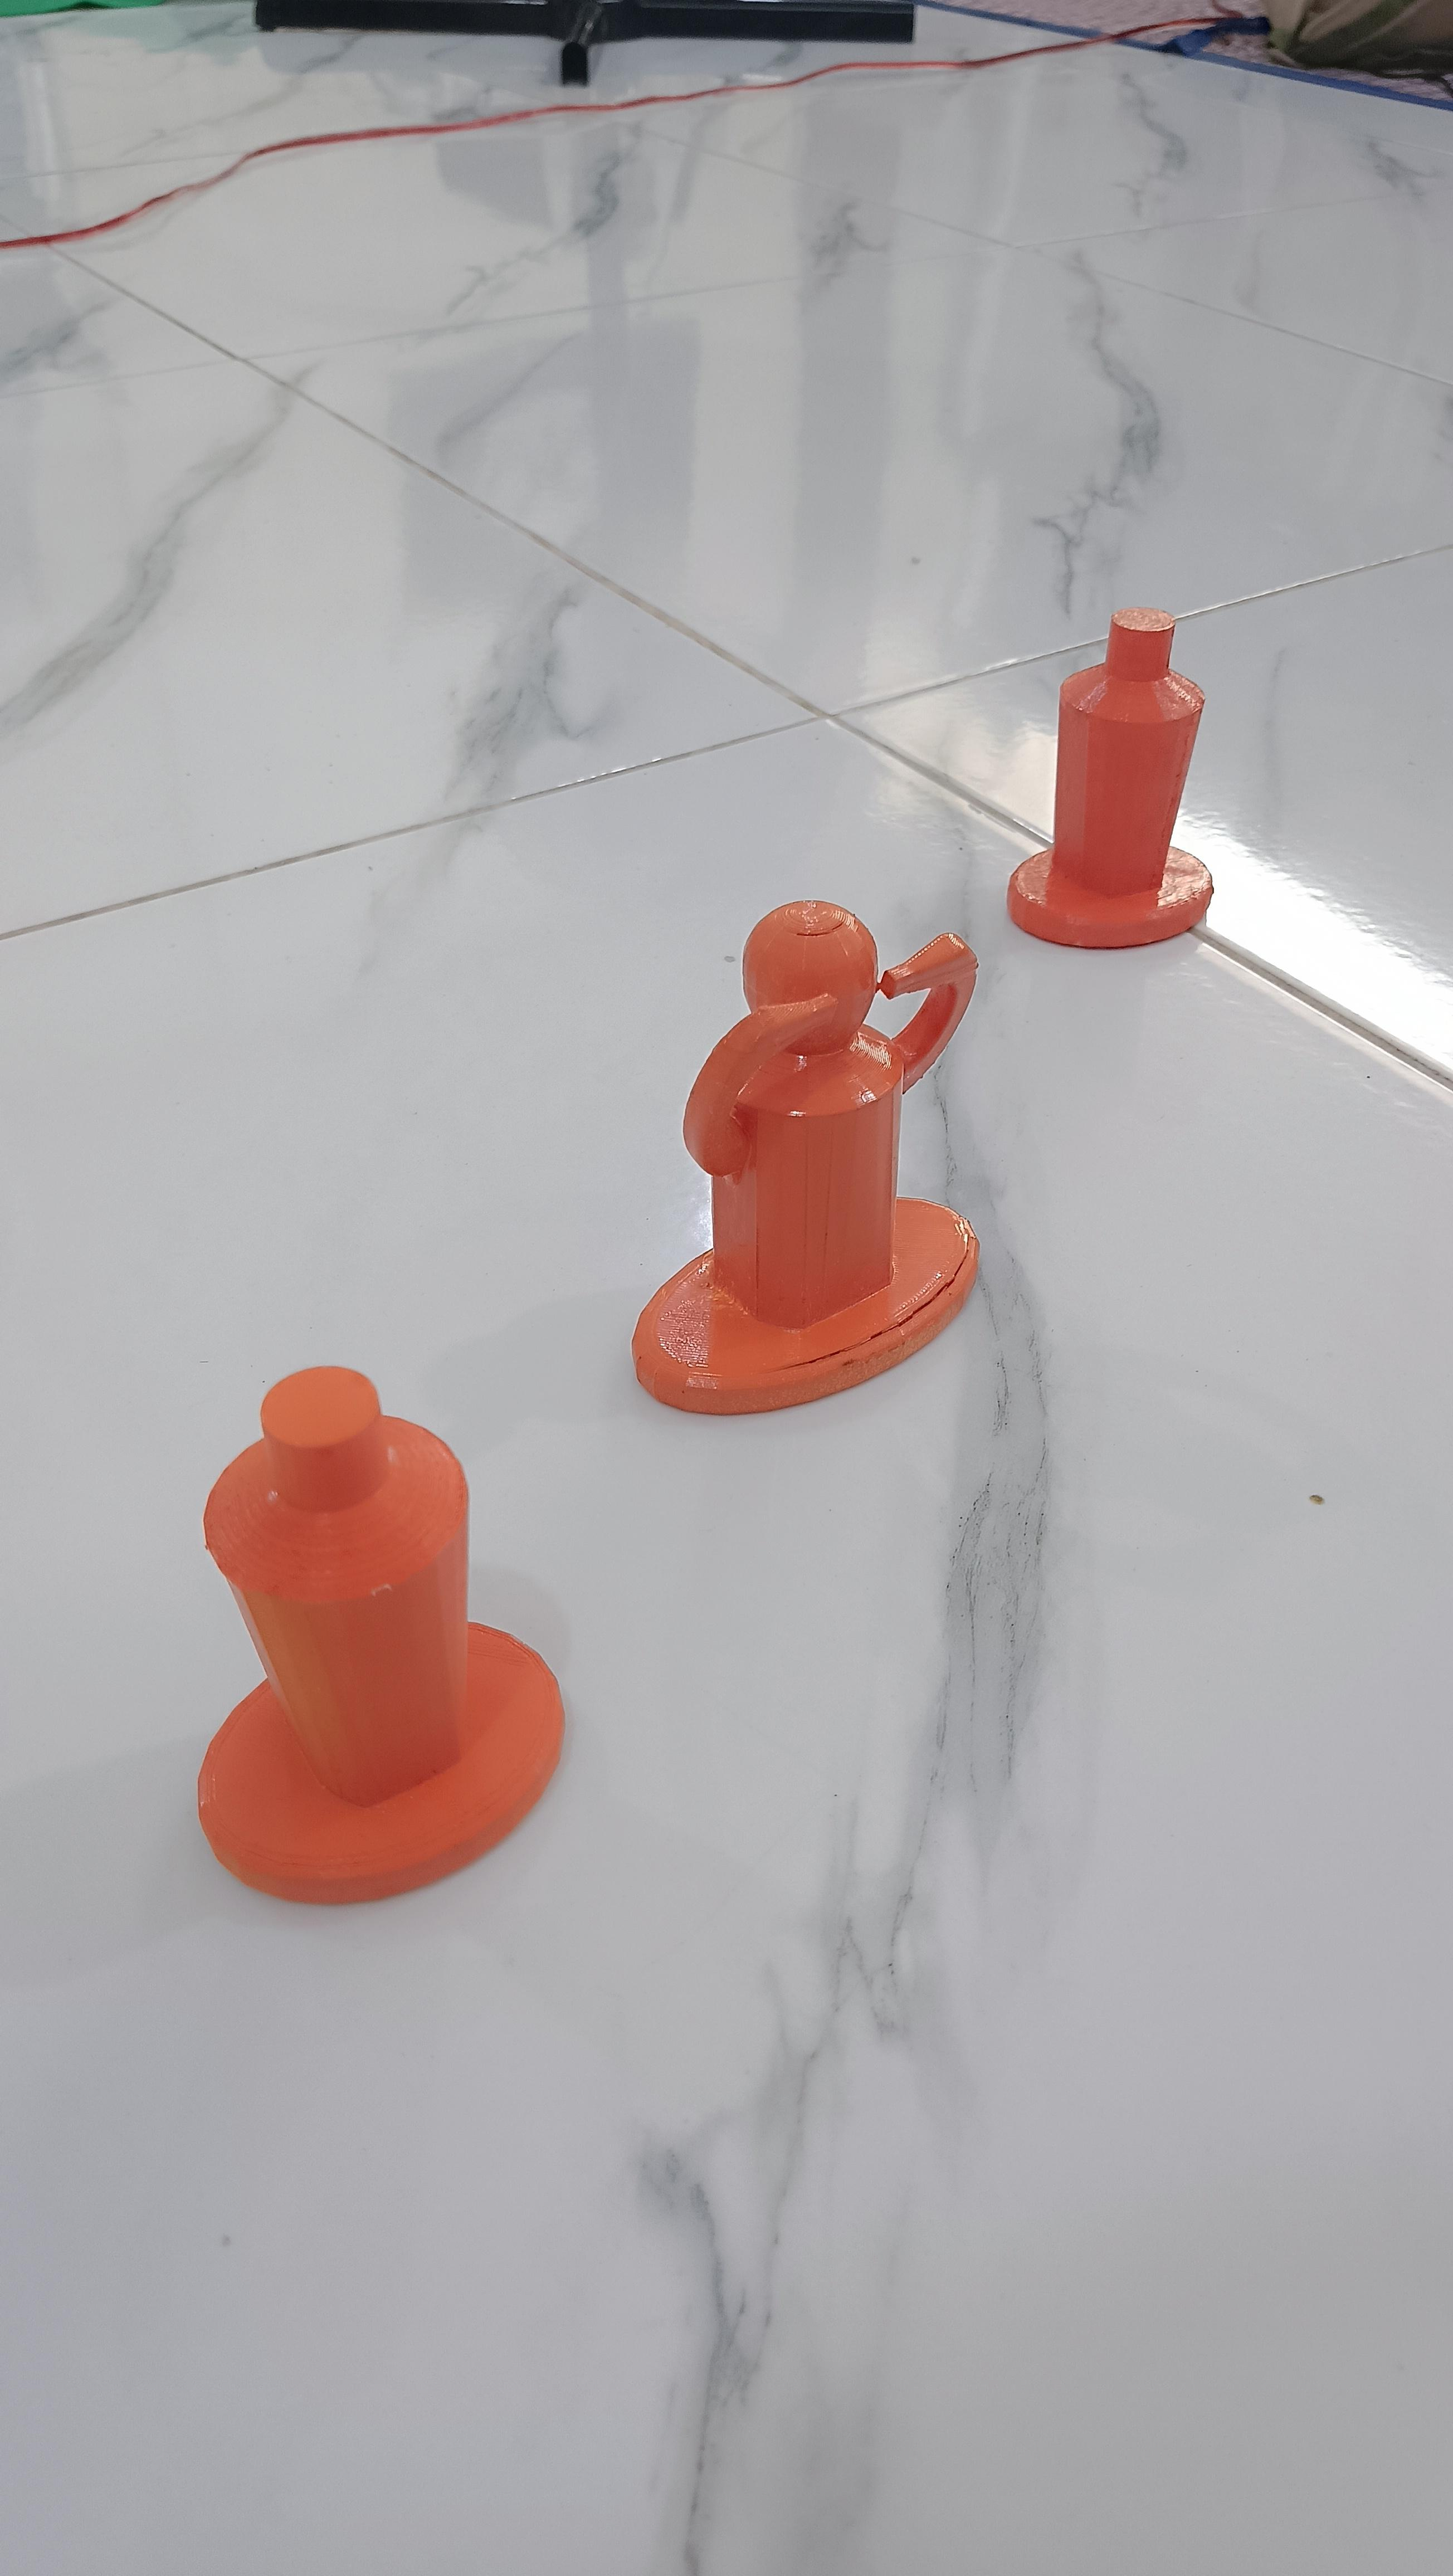dummy: (120, 1334, 578, 1994), (986, 557, 1252, 954)
real_person: (582, 858, 998, 1457)
